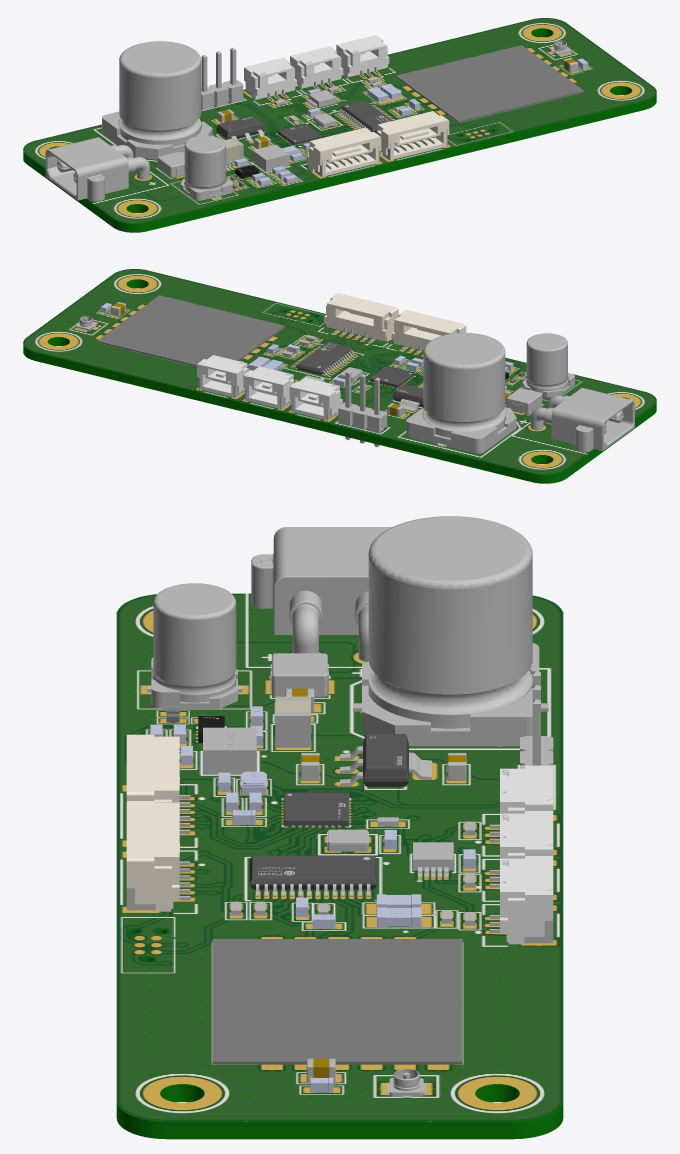
The model's file is vtx.glb.
3 views of the same model, one above another, from view 1: azimuth 30°, elevation 25°; view 2: azimuth 150°, elevation 25°; view 3: azimuth 270°, elevation 25° (orthographic). The views are drawn at different scales.
Parts seen in each view (by area): view 1: vtx, art_top; view 2: vtx, art_top; view 3: vtx, art_top.
Boxes of the visible parts, x1,y1,x2,y2 form: vtx: (23,28,656,232); art_top: (23,18,656,223); vtx: (23,279,656,483); art_top: (23,269,656,474); vtx: (116,516,563,1139); art_top: (116,593,563,1121).
Bounding box in the file's own units: 96.5 × 16.49 × 34.
Materials: 14 (2 with a texture image).
